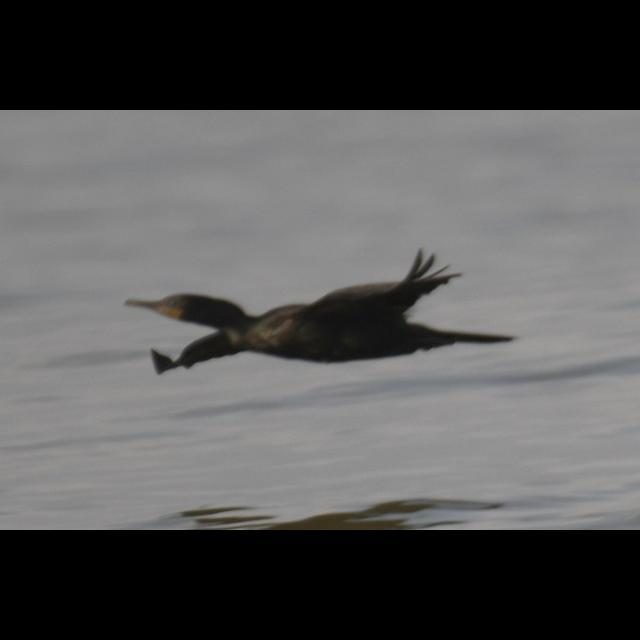cormorant: (123, 256, 513, 386)
